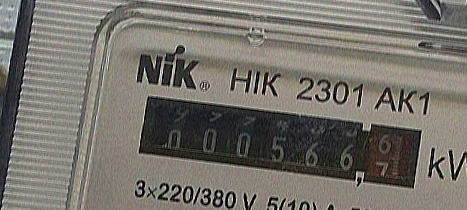0: (233, 128, 254, 159), (199, 123, 219, 154), (163, 124, 185, 149)
5: (267, 132, 289, 163)
6: (336, 139, 358, 172), (300, 137, 322, 167), (376, 130, 395, 157)
7: (372, 158, 390, 178)
9: (170, 102, 191, 124)
screen: (128, 86, 428, 197)
